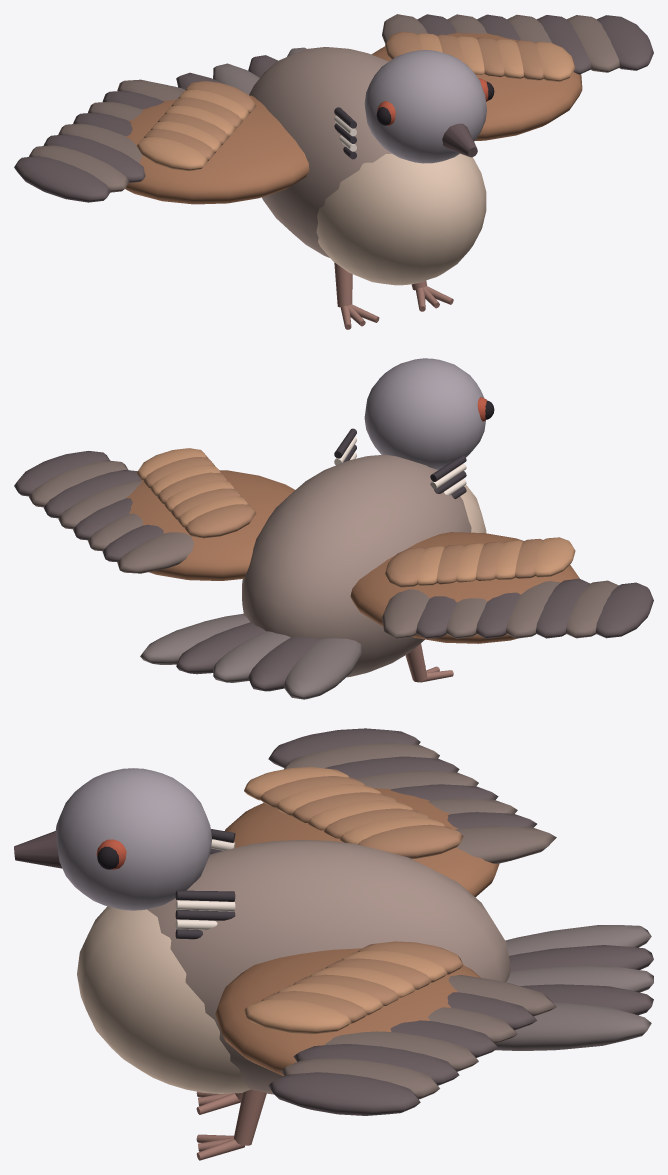
File: scetis-turturica.glb
The picture shows the model from 3 angles, top to bottom: view 1: azimuth 30°, elevation 25°; view 2: azimuth 150°, elevation 25°; view 3: azimuth 270°, elevation 25°; orthographic projection. The views are drawn at different scales.
Visible parts, largest first — view 1: scetis-turturica, wing-1, wing1, head; view 2: scetis-turturica, wing-1, wing1, head; view 3: scetis-turturica, wing1, wing-1, head.
Boxes of the visible parts, <box> form: scetis-turturica: <box>170,47,486,329</box>; wing-1: <box>14,79,309,204</box>; wing1: <box>371,14,653,140</box>; head: <box>364,50,494,163</box>; scetis-turturica: <box>140,428,486,699</box>; wing-1: <box>350,532,653,643</box>; wing1: <box>14,448,294,580</box>; head: <box>364,358,494,469</box>; scetis-turturica: <box>77,829,653,1160</box>; wing1: <box>215,941,556,1115</box>; wing-1: <box>225,728,556,897</box>; head: <box>14,768,212,910</box>.
Bounding box in the file's own units: 1.51 × 0.6559 × 1.08.
